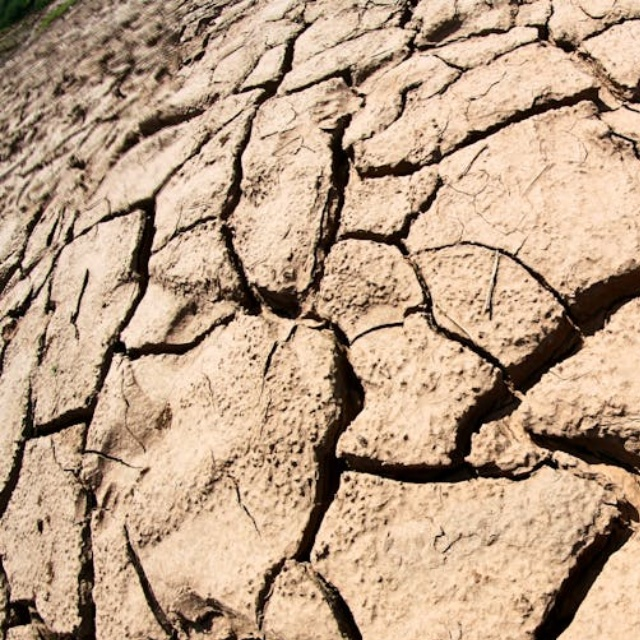深大裂缝: (274, 192, 640, 640)
细微裂纹: (50, 220, 142, 640)
